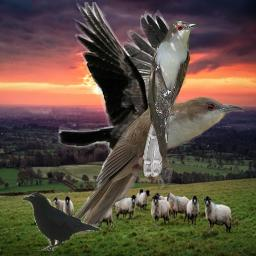Crow: (58, 2, 184, 191), (20, 191, 100, 251)
Cuckoo: (60, 96, 244, 234), (141, 19, 200, 177)
